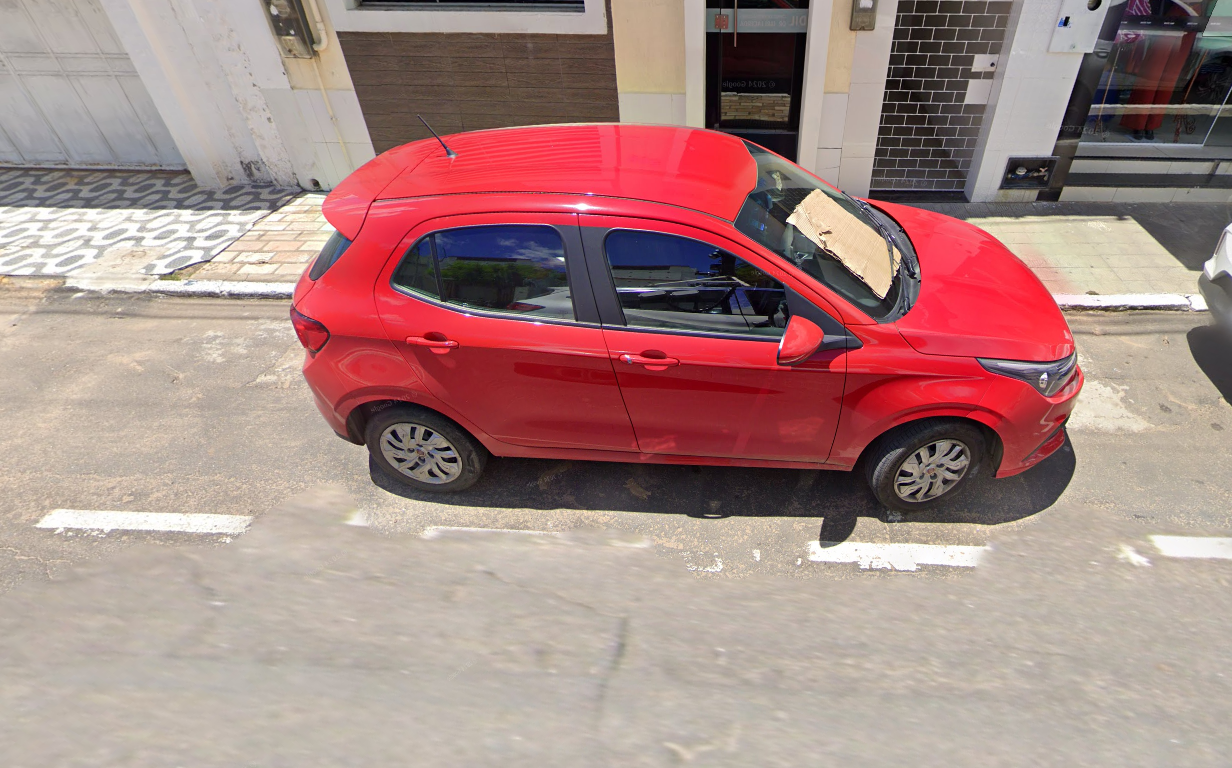car: (285, 103, 1088, 538)
